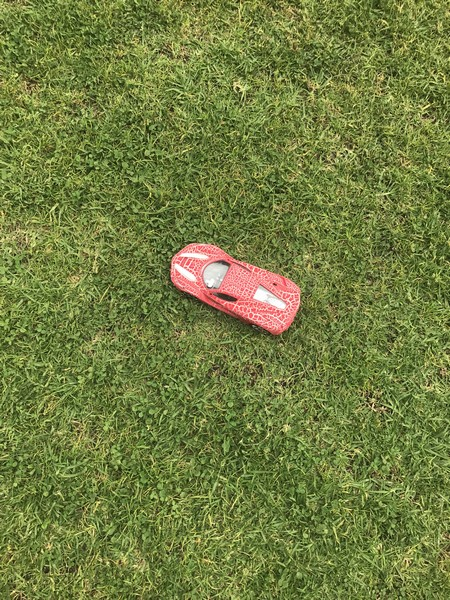RC: (168, 240, 303, 340)
